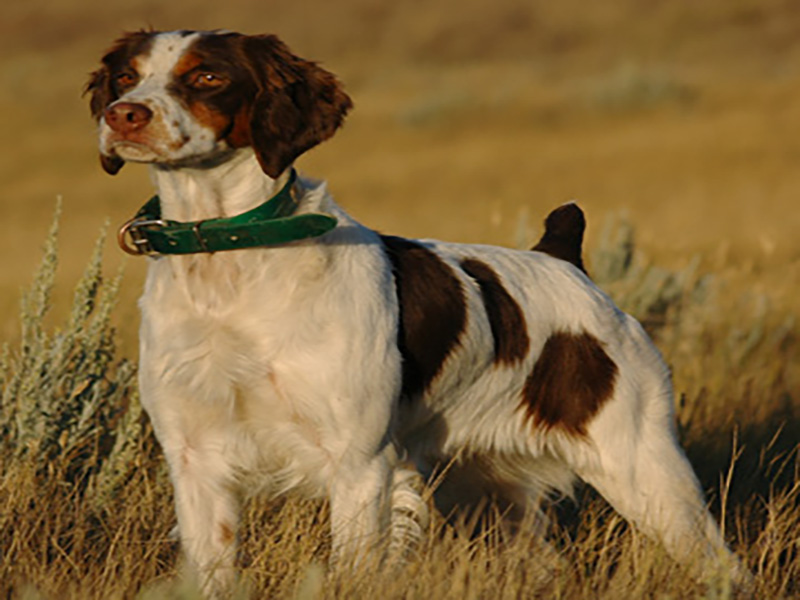cane da caccia: (90, 27, 754, 593)
